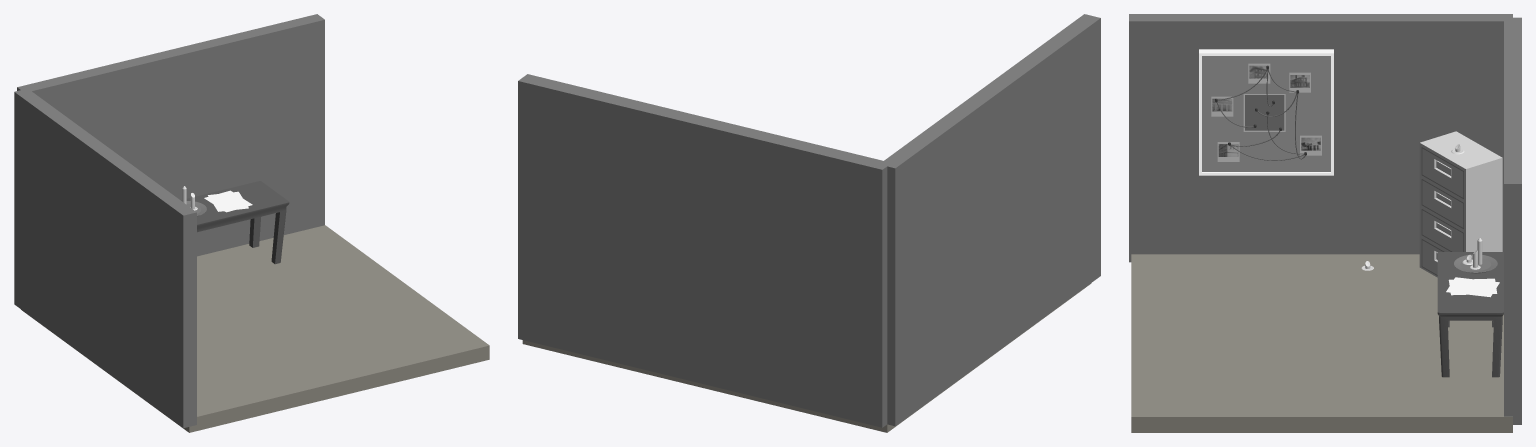
The model's file is wick.glb.
The picture shows the model from 3 angles, left to right: view 1: azimuth 30°, elevation 25°; view 2: azimuth 150°, elevation 25°; view 3: azimuth 270°, elevation 25°; orthographic projection. The views are drawn at different scales.
Parts seen in each view (by area): view 1: Cube.007, Cube.002, Cube.001, Cube.005, Plane.008; view 2: Cube.002, Cube.007, Cube.001; view 3: Cube.007, Cube.001, Cube.008, Cube, Cube.002, Cube.005, Plane.006, Plane.008, Plate, Plane.003, Plane.005, Plane.009 (+2 smaller).
Part boxes in pixels (left/top/right/bottom): Cube.007: left=14, top=90, right=196, bottom=428; Cube.002: left=17, top=14, right=324, bottom=256; Cube.001: left=21, top=225, right=489, bottom=432; Cube.005: left=181, top=181, right=289, bottom=264; Plane.008: left=204, top=190, right=252, bottom=212; Cube.002: left=518, top=74, right=891, bottom=427; Cube.007: left=879, top=14, right=1100, bottom=426; Cube.001: left=522, top=283, right=1091, bottom=432; Cube.007: left=1129, top=14, right=1512, bottom=262; Cube.001: left=1131, top=254, right=1512, bottom=432; Cube.008: left=1199, top=49, right=1333, bottom=175; Cube: left=1419, top=131, right=1502, bottom=277; Cube.002: left=1504, top=17, right=1521, bottom=424; Cube.005: left=1437, top=252, right=1503, bottom=377; Plane.006: left=1243, top=94, right=1285, bottom=131; Plane.008: left=1448, top=278, right=1497, bottom=295; Plate: left=1454, top=254, right=1497, bottom=273; Plane.003: left=1211, top=96, right=1233, bottom=116; Plane.005: left=1289, top=72, right=1310, bottom=92; Plane.009: left=1248, top=63, right=1270, bottom=83.
Size of the model in its own units: 18.15 by 12.4 by 17.72.
17 materials, 5 textured.
